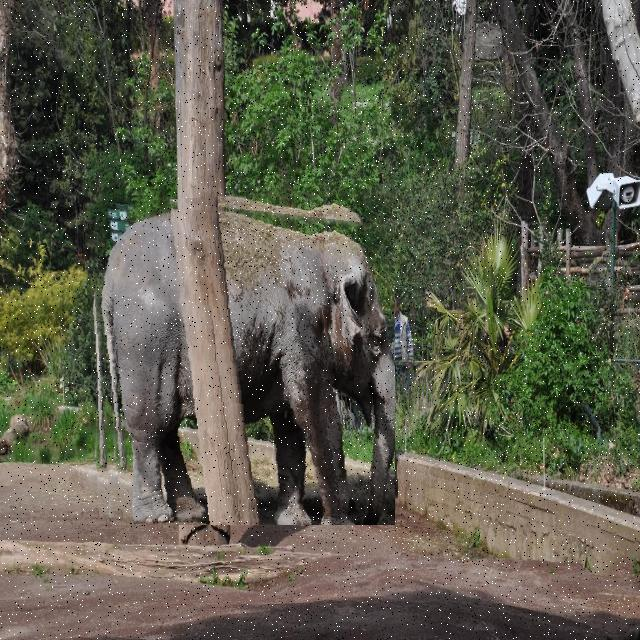elephant: (87, 192, 395, 525)
